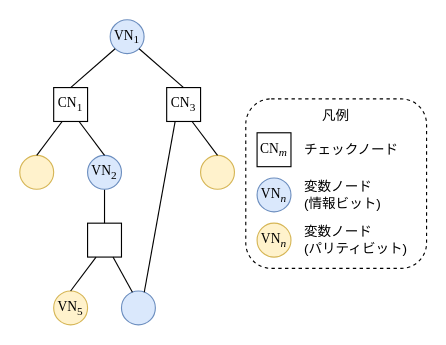
This 446x345 diagram has some shape labels left out. The box of each missing label's shape, as (x1, y1, x2, y2) in pixels:
CN 2: (86, 222, 121, 257)
VN 3: (120, 290, 155, 325)
VN 4: (19, 154, 54, 189)
VN 6: (199, 154, 234, 189)
